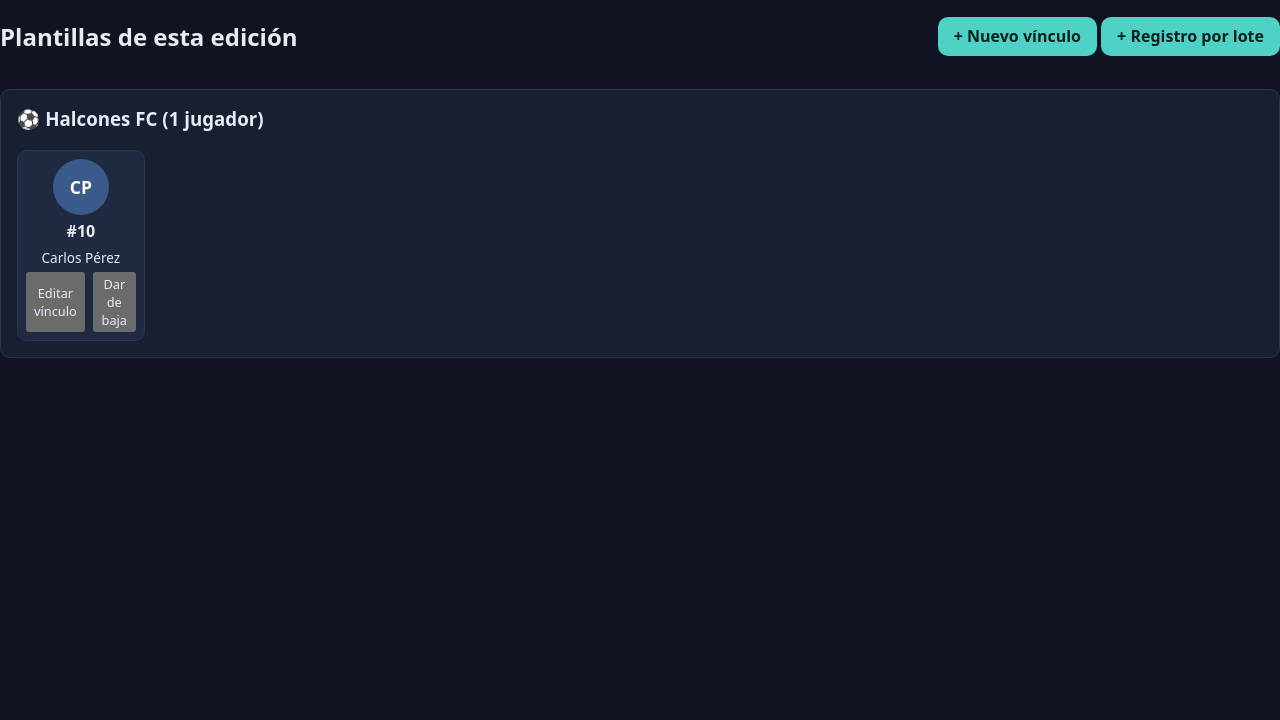
Test: PlantillasDelTorneoPage — grid de tarjetas (Design sección D) › Perfil de Jugador: cédula duplicada al editar se muestra inline
Click the button "CP #10 Carlos Pérez" at (81, 213), box [26,158,136,267]
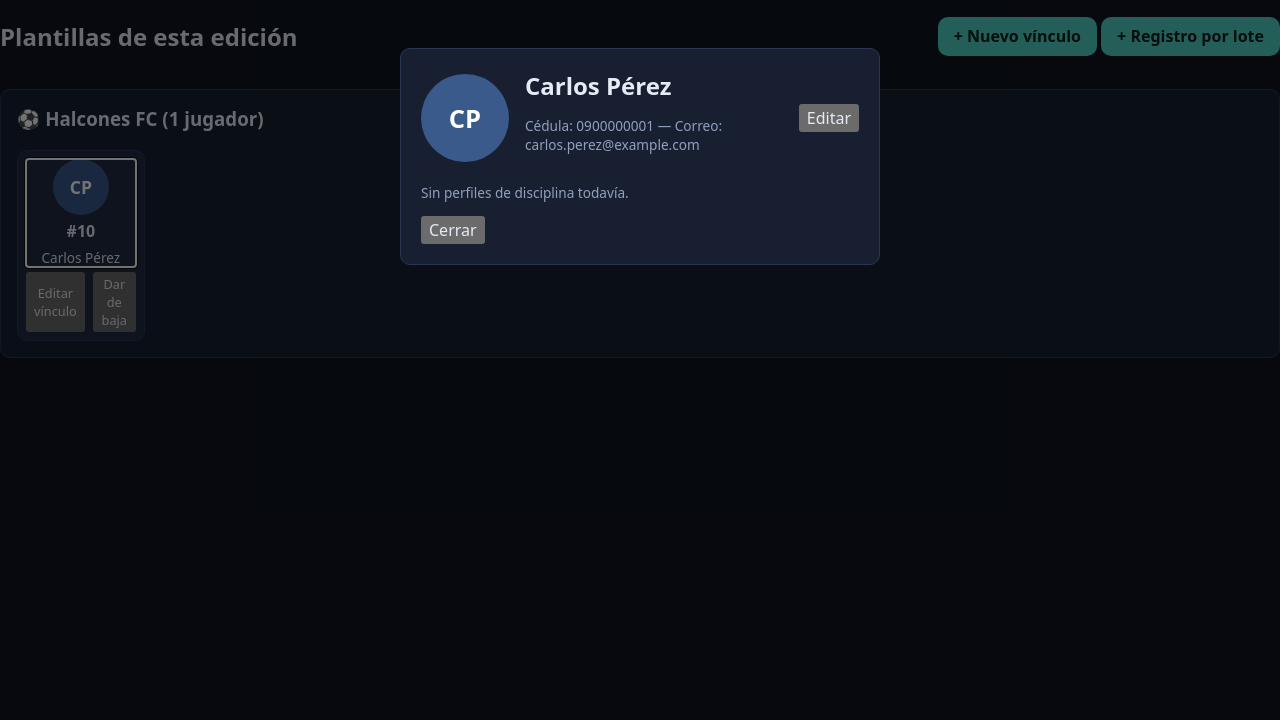
Click the button "Editar" at (829, 118), box [799,104,859,132]
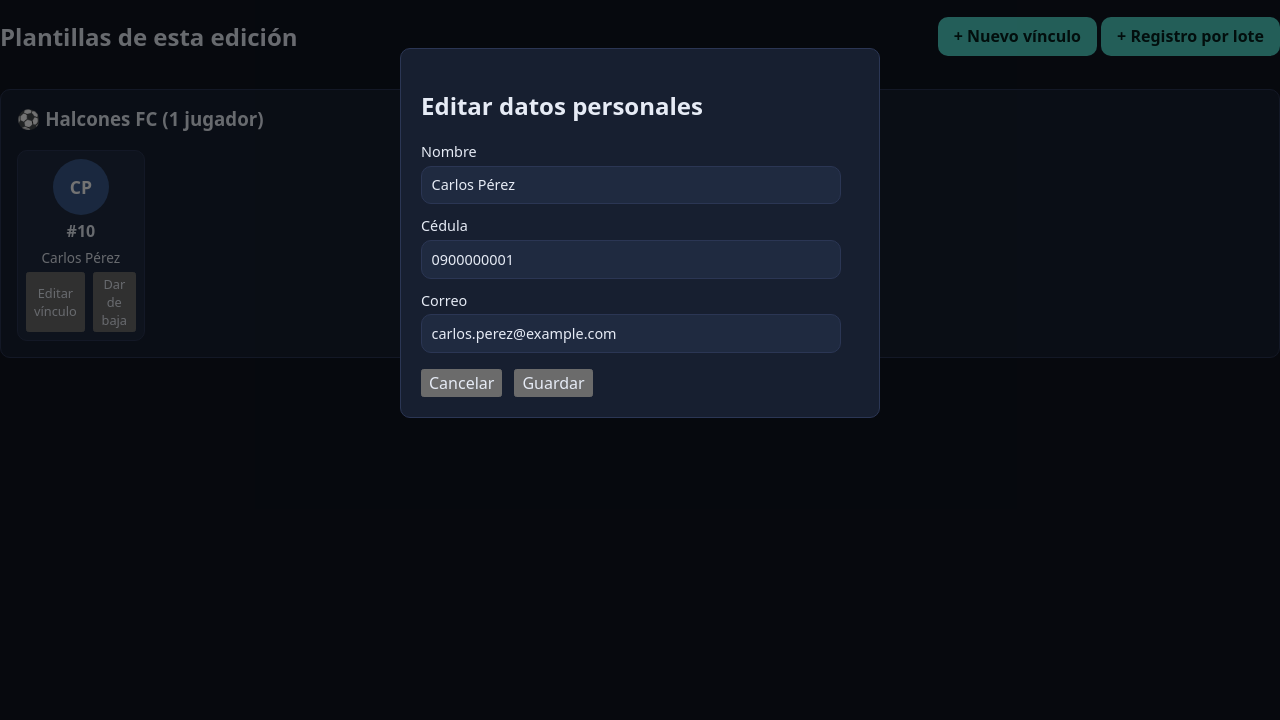
Click the button "Guardar" at (554, 383), box [514,369,593,397]
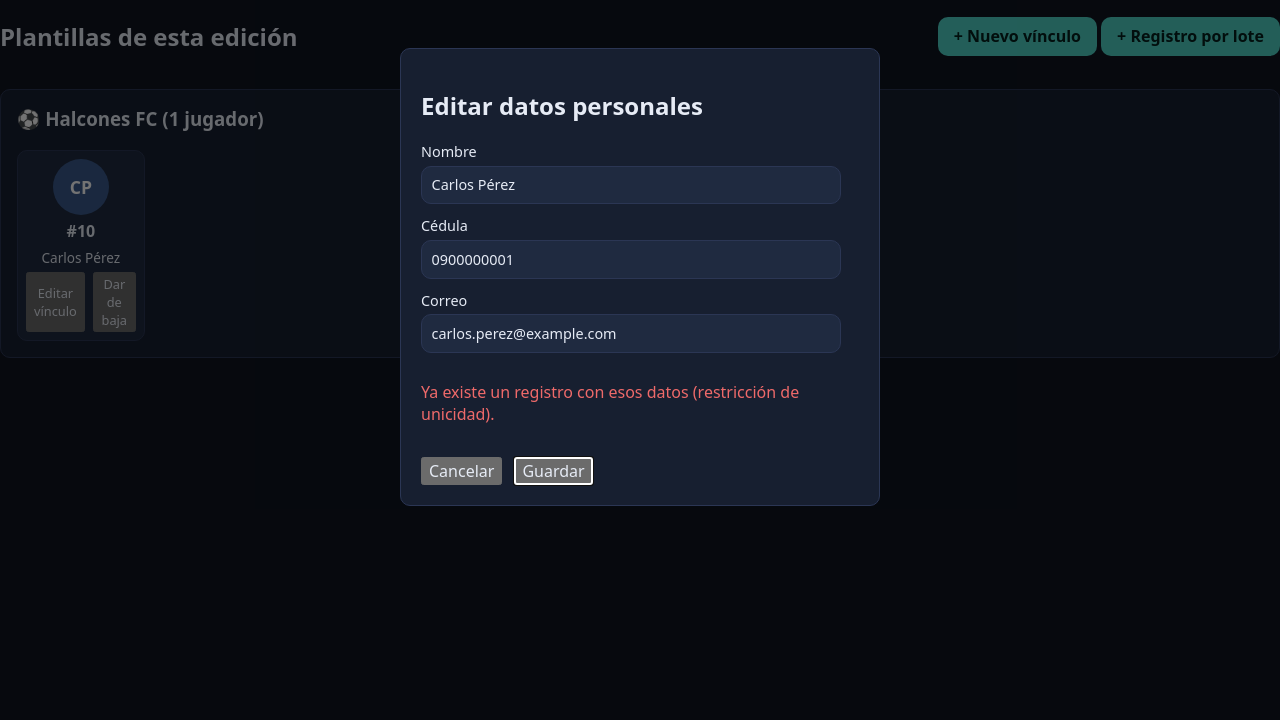
Now the text "restricción de unicidad" is shown, box [421,381,799,425]
